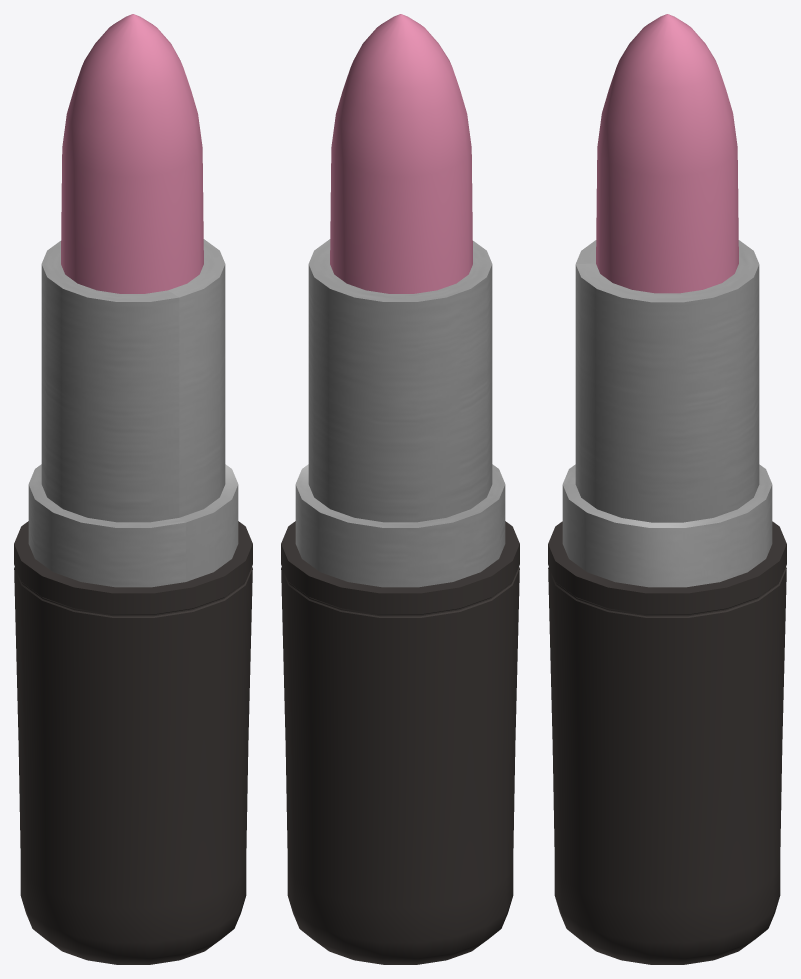
File: lipstick.fbx
The picture shows the model from 3 angles, left to right: view 1: azimuth 30°, elevation 25°; view 2: azimuth 150°, elevation 25°; view 3: azimuth 270°, elevation 25°; orthographic projection.
Parts seen in each view (by area): view 1: lipstick; view 2: lipstick; view 3: lipstick.
Part boxes in pixels (left/top/right/bottom): lipstick: left=14, top=14, right=252, bottom=964; lipstick: left=281, top=14, right=519, bottom=964; lipstick: left=548, top=14, right=786, bottom=964.
Bounding box in the file's own units: 0.5642 × 2.43 × 0.5729.
